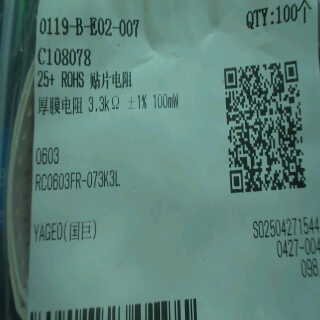3.3kO: (83, 91, 122, 121)
